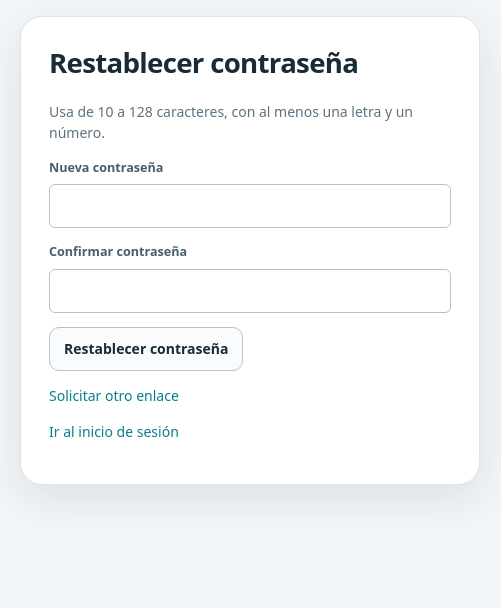
it: Account recovery › shows expired/invalid link errors without revealing backend internals
Type "Password123" into the password field labelled "Nueva contraseña" at x=250, y=206, box [49, 184, 451, 228]
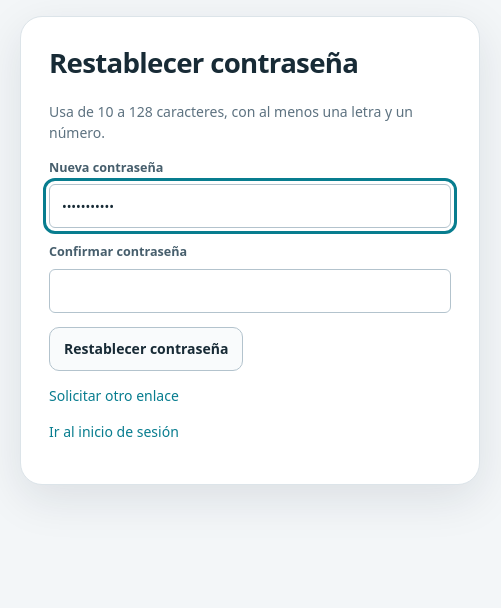
Type "Password123" into the password field labelled "Confirmar contraseña" at x=250, y=291, box [49, 269, 451, 313]
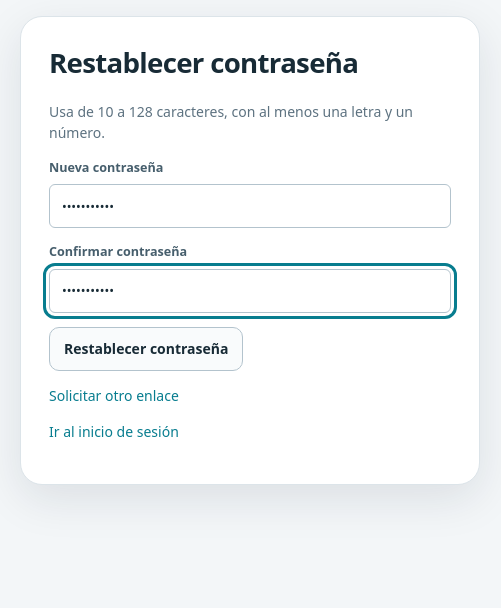
Click the button "Restablecer contraseña" at x=146, y=349, box [49, 327, 243, 371]
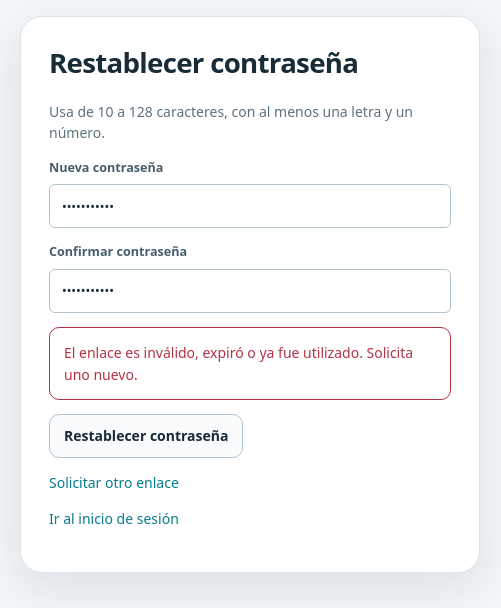
Expected: the message shows "inválido, expiró o ya fue utilizado", [64, 343, 413, 384]
